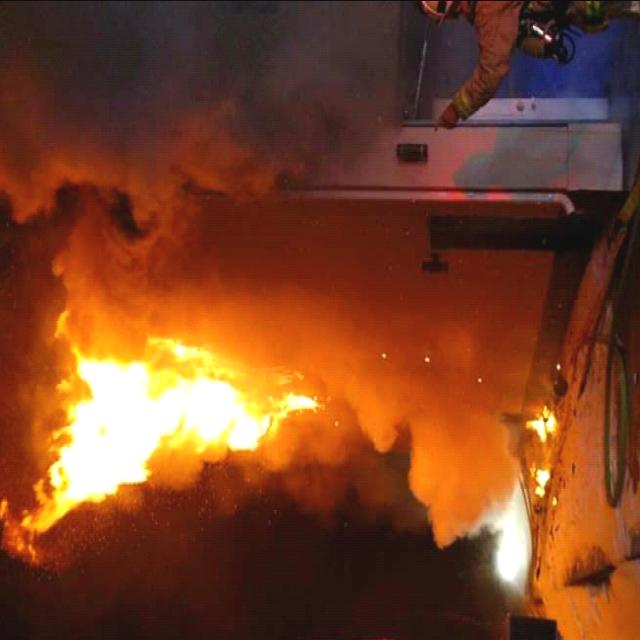firerotation: (0, 299, 327, 573), (406, 404, 558, 598)
